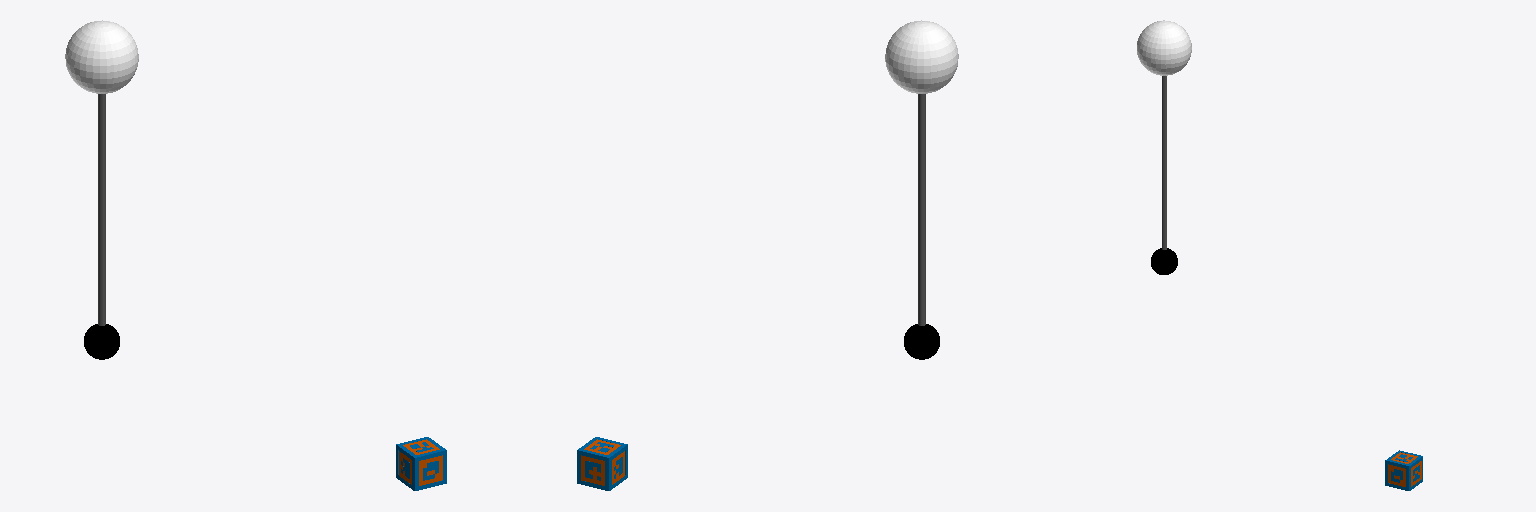
The robot description file, URDF, robot "bender":
<robot name="bender">

    <material name="black">
        <color rgba="0 0 0 1"/>
    </material>

    <material name="white">
        <color rgba="1 1 1 1"/>
    </material>

    <material name="gray">
        <color rgba="0.4 0.4 0.4 1"/>
    </material>

    <material name="light gray">
        <color rgba="0.8 0.8 0.8 1"/>
    </material>

    <material name="light green">
        <color rgba="0.4 0.8 0.4 1"/>
    </material>

    <material name="light blue">
        <color rgba="0.4 0.4 0.8 1"/>
    </material>

    <material name="light red">
        <color rgba="0.8 0.4 0.4 1"/>
    </material>

    <link name="world"/>
    <link name="base">
        <visual>
            <geometry>
                <sphere radius="0.1"/>   
            </geometry>
            <material name="white"/>
        </visual>
        <inertial>
            <mass value="0"/>
            <inertia ixx="0"  ixy="0"  ixz="0" iyy="0" iyz="0" izz="0" />
        </inertial>
    </link>

    <link name="link_1">
        <visual>
            <geometry>
                <cylinder radius="0.01" length="0.8"/>   
            </geometry>
            <origin xyz="0.0 0 0.4" rpy="0 0 0" />
            <material name="gray"/>
        </visual>
        <inertial>
            <mass value="0"/>
            <inertia ixx="0"  ixy="0"  ixz="0" iyy="0" iyz="0" izz="0" />
        </inertial>
    </link>

    <link name="link_eef">
        <visual>
            <geometry>
                <sphere radius="0.05"/>   
            </geometry>
            <origin xyz="0 0 0.05" rpy="0 0 0" />
            <material name="black"/>
        </visual>
        <inertial>
            <origin xyz="0 0 0" rpy="0 0 0"/>
            <mass value="1"/>
            <inertia ixx="0"  ixy="0"  ixz="0" iyy="0" iyz="0" izz="0" />
        </inertial>
    </link>

    <joint name="world_to_base" type="fixed">
        <parent link="world"/>
        <child link="base"/>     
        <origin xyz="0 0 1.5" rpy="0 0 0"/>
    </joint>

    <joint name="joint_1" type="revolute">
        <parent link="base"/>
        <child link="link_1"/>
        <origin xyz="0.0 0 0" rpy="0 3.14159265358979323846 0"/>
        <limit effort="0" velocity="0"/>
        <dynamics damping="1" friction="0"/>
        <axis xyz="0 1 0"/>
    </joint>

    <joint name="joint_eef" type="fixed">
        <parent link="link_1"/>
        <child link="link_eef"/>     
        <origin xyz="0 0 0.8" rpy="0 0 0"/>
    </joint>

    <link name="code">
        <visual>
            <geometry>
                <mesh filename="meshes2/files/alternative_white.stl" scale="0.00251"/>
            </geometry>
            <origin xyz="0 0 0.05" rpy="0 0 0" />
        </visual>
    </link>

    

    <joint name="box_w" type="fixed">
        <parent link="world"/>
        <child link="code"/> 
        <origin xyz="1 0 0" rpy="0 0 0" />    
    </joint>

    <link name="code_bg">
        <visual>
            <geometry>
                <box size="0.1 0.1 0.1"/>
            </geometry>
            <origin xyz="0 0 0.05" rpy="0 0 0" />
        </visual>
        
    </link>

    <joint name="box_bg" type="fixed">
        <parent link="code"/>
        <child link="code_bg"/>     
    </joint>

</robot>

--- Render facts (derived) ---
3 views of the same robot in one strip: view 1: azimuth 30°, elevation 25°; view 2: azimuth 150°, elevation 25°; view 3: azimuth 330°, elevation 25° (orthographic).
Model bender with 6 links and 5 joints (1 revolute, 4 fixed), rooted at world, posed every joint at zero.
Links seen in each view (by area): view 1: base, link_1, code, link_eef, code_bg; view 2: base, link_1, code, link_eef, code_bg; view 3: base, link_1, code, link_eef.
Link boxes in pixels (<box>): base: <box>65,20,138,93</box>; link_1: <box>98,94,105,325</box>; code: <box>396,437,446,490</box>; link_eef: <box>84,324,119,359</box>; code_bg: <box>399,439,442,485</box>; base: <box>885,20,958,93</box>; link_1: <box>918,94,925,325</box>; code: <box>577,437,627,490</box>; link_eef: <box>904,324,939,359</box>; code_bg: <box>581,439,624,485</box>; base: <box>1137,20,1191,75</box>; link_1: <box>1162,76,1166,249</box>; code: <box>1385,450,1422,490</box>; link_eef: <box>1151,248,1177,274</box>.
Size in the robot's own frame: 1.15 by 0.2 by 1.6 metres.
Meshes: 1 distinct files referenced, 1 mesh visuals loaded (1 binary STL).
